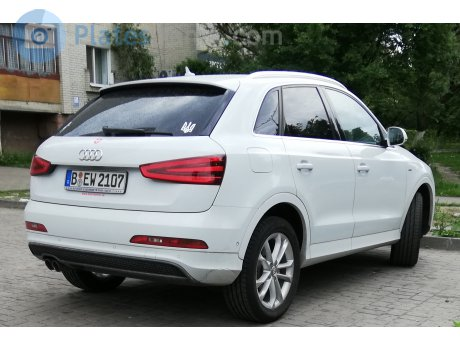License Plates: (68, 169, 126, 189)
